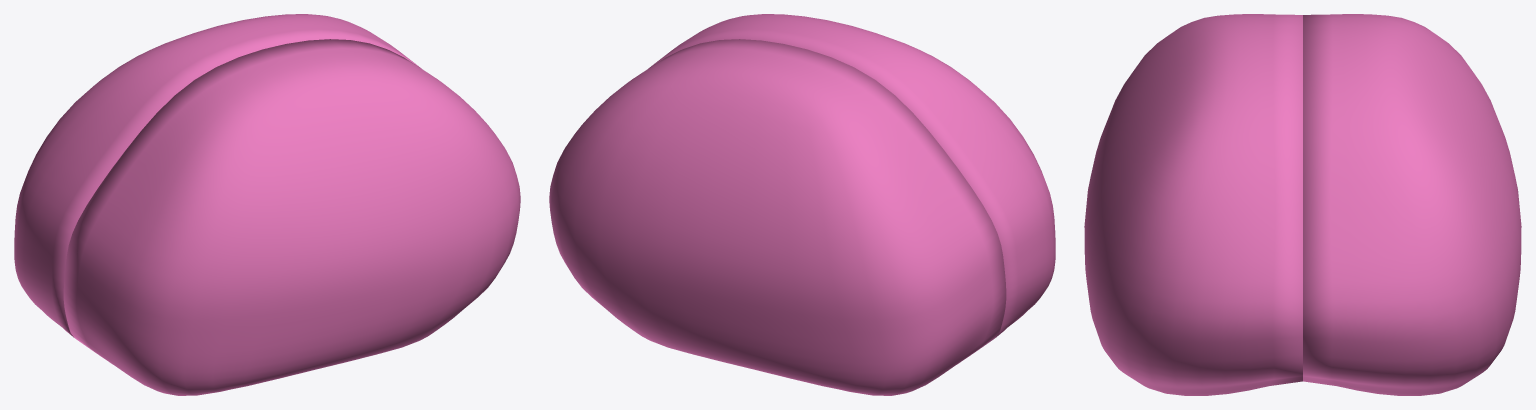
Rendered from WholeBrain skybox  1.fbx.
3 views of the same model, side by side, from view 1: azimuth 30°, elevation 25°; view 2: azimuth 150°, elevation 25°; view 3: azimuth 270°, elevation 25° (orthographic). The views are drawn at different scales.
Visible parts, largest first — view 1: Cube.006, Cube.005; view 2: Cube.005, Cube.006; view 3: Cube.005, Cube.006.
Boxes of the visible parts, box(x1,y1,x2,y2) form: Cube.006: box(63, 39, 520, 395); Cube.005: box(14, 14, 421, 337); Cube.005: box(549, 39, 1006, 395); Cube.006: box(648, 14, 1055, 337); Cube.005: box(1303, 14, 1521, 395); Cube.006: box(1084, 14, 1302, 395).
Size of the model in its own units: 424 by 262 by 336.
